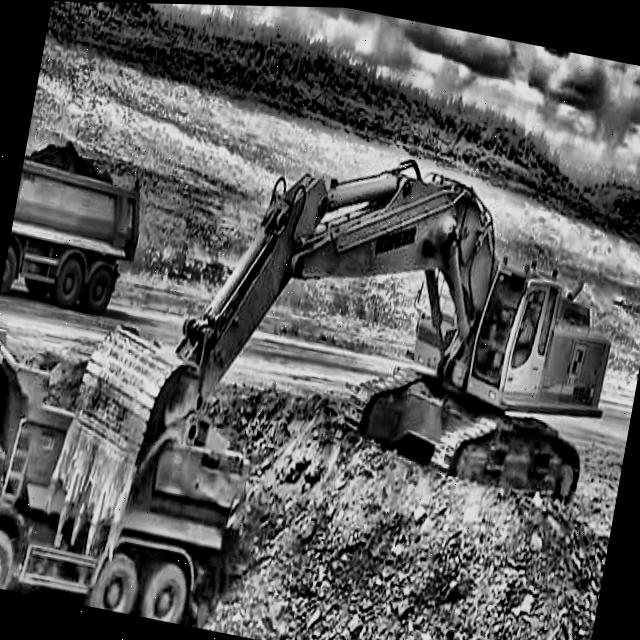dump_truck: (0, 318, 260, 631), (0, 127, 152, 322)
excavator: (34, 94, 640, 640)
